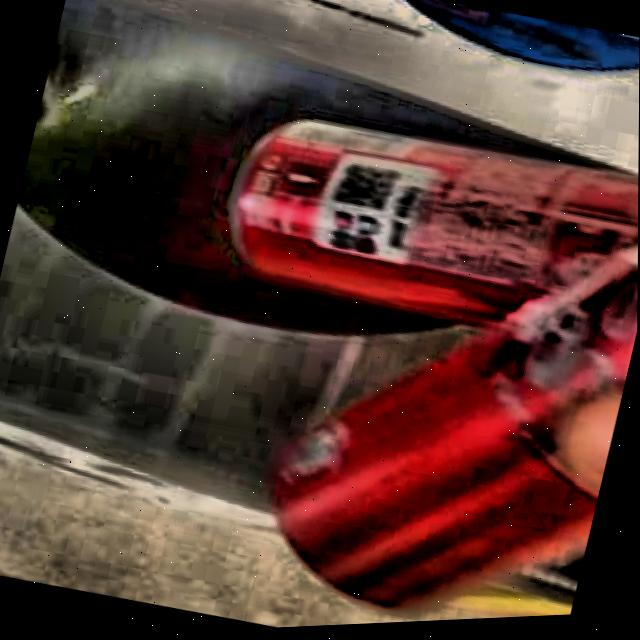metal: (233, 124, 639, 612)
